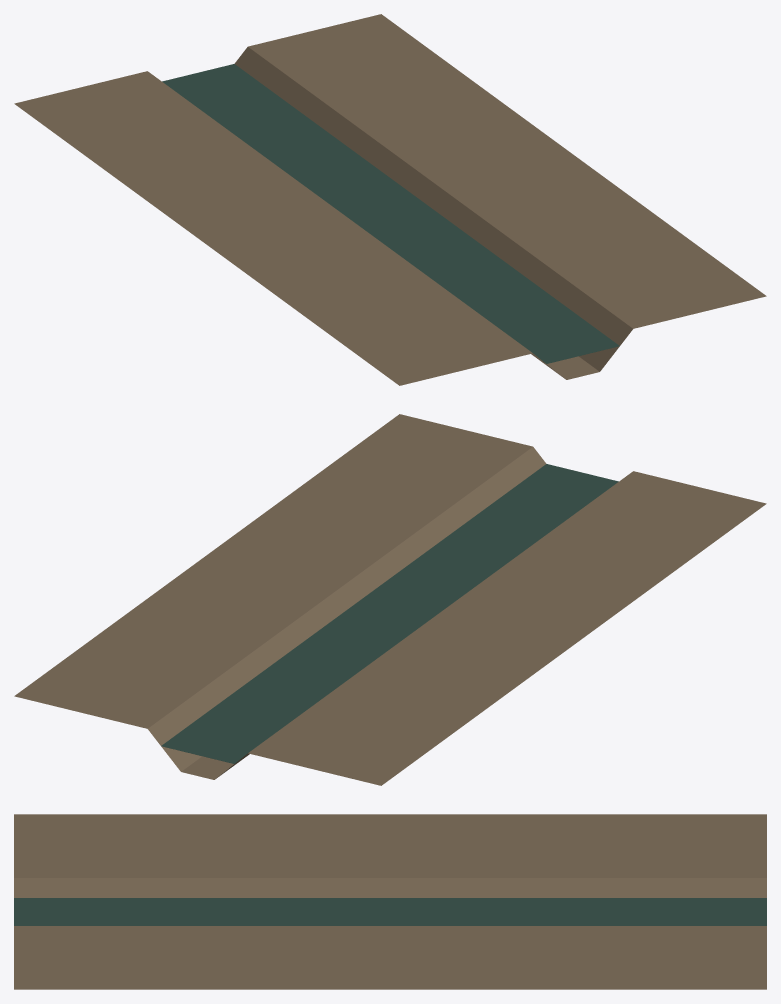
Rendered from tf_canal_ditch_1p5m.glb.
3 views of the same model, one above another, from view 1: azimuth 30°, elevation 25°; view 2: azimuth 150°, elevation 25°; view 3: azimuth 270°, elevation 25° (orthographic). The views are drawn at different scales.
Visible parts, largest first — view 1: tf_canal_ditch_1p5m; view 2: tf_canal_ditch_1p5m; view 3: tf_canal_ditch_1p5m.
Part boxes in pixels (left/top/right/bottom): tf_canal_ditch_1p5m: left=14, top=14, right=766, bottom=385; tf_canal_ditch_1p5m: left=14, top=414, right=766, bottom=785; tf_canal_ditch_1p5m: left=14, top=814, right=766, bottom=989.
Size of what is drawn, in the model's own units: 5.5 by 0.5 by 10.
